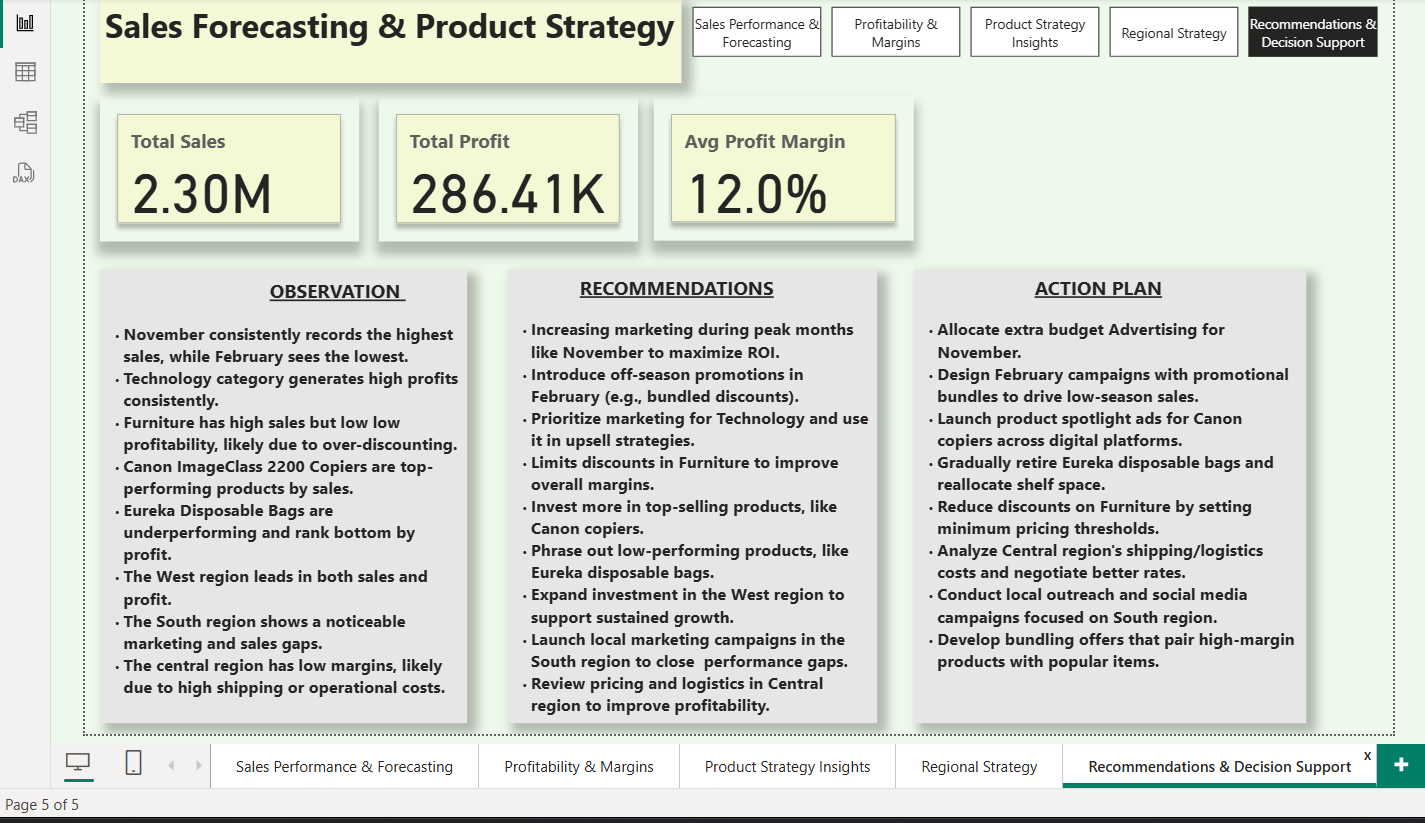

What the dashboard file says about the page in this screenshot:
{"tool":"powerbi","page":{"name":"Recommendations & Decision Support","canvas":[1280,720],"ordinal":4},"visuals":[{"type":"cardVisual","fields":{"Data":["Superstore-Cleaned_Data.Total Sales"]},"box":[15.1,96.1,253.9,141.3],"z":0},{"type":"cardVisual","fields":{"Data":["Superstore-Cleaned_Data.Total Profit"]},"box":[286.8,96.1,253.9,141.3],"z":1000},{"type":"cardVisual","fields":{"Data":["Superstore-Cleaned_Data.Avg Profit Margin"]},"box":[556.4,96.6,254.3,140.6],"z":2000},{"type":"textbox","box":[14.7,0,568.6,83.2],"z":3000},{"type":"pageNavigator","box":[594.2,8.2,671,49.4],"z":4000},{"type":"textbox","box":[14.7,265.4,359.5,443.9],"z":5000},{"type":"textbox","box":[413.3,265.4,362,443.9],"z":6000},{"type":"textbox","box":[810.7,265.4,384,443.9],"z":7000}]}

Visuals, with their boxes on the page's 1280x720 design canvas (x1, y1, x2, y2). These are canvas units, not pixel positions in the 1425x823 screenshot, which may show the page scaled, cropped or inside an application window:
cardVisual - Superstore-Cleaned_Data.Total Sales: 15,96,269,237
cardVisual - Superstore-Cleaned_Data.Total Profit: 287,96,541,237
cardVisual - Superstore-Cleaned_Data.Avg Profit Margin: 556,97,811,237
textbox: 15,0,583,83
pageNavigator: 594,8,1265,58
textbox: 15,265,374,709
textbox: 413,265,775,709
textbox: 811,265,1195,709
